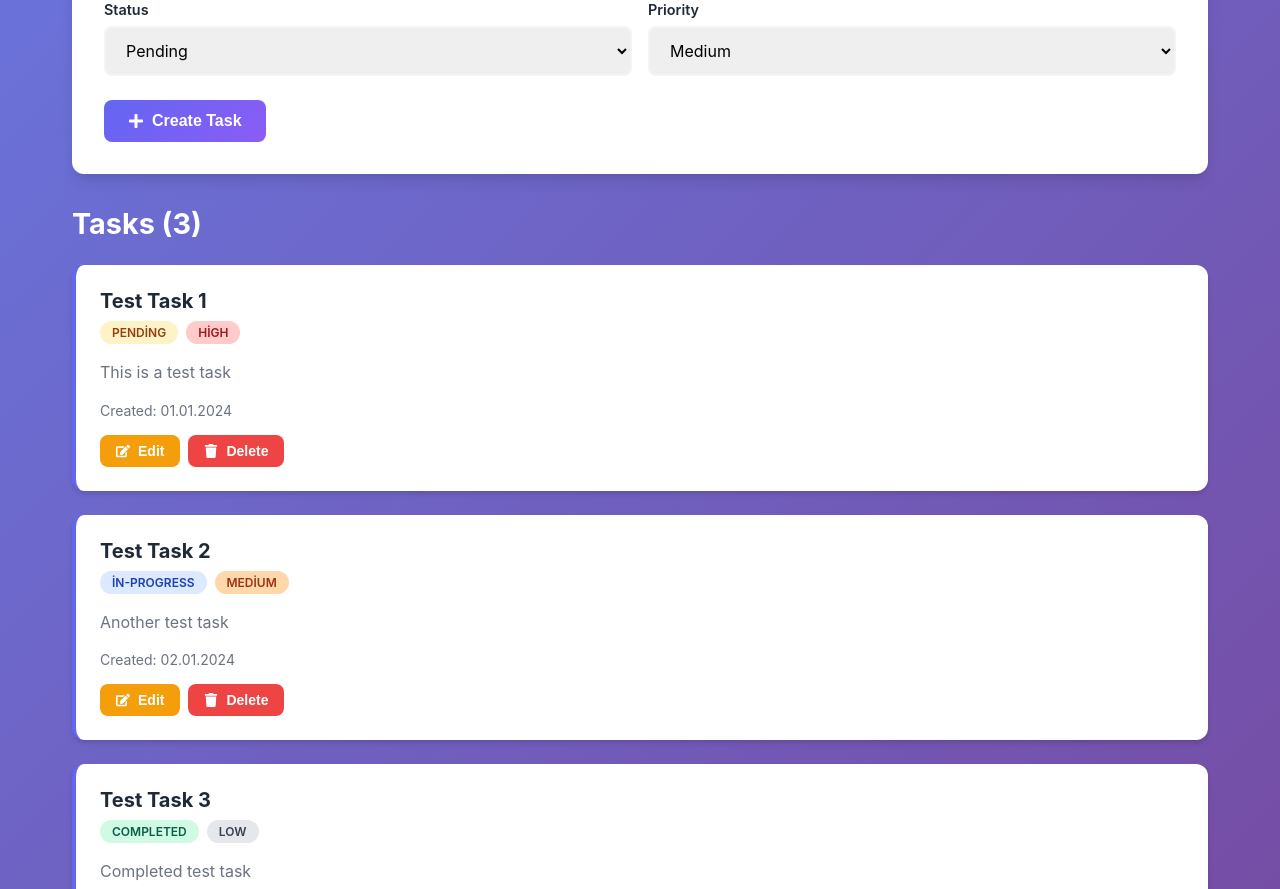
it: App Component Tests › Edit Task Functionality › should enter edit mode when edit button is clicked
(page scrolled)
Click the button "Edit" below "01.01.2024" at (140, 451), box [100,435,180,467]
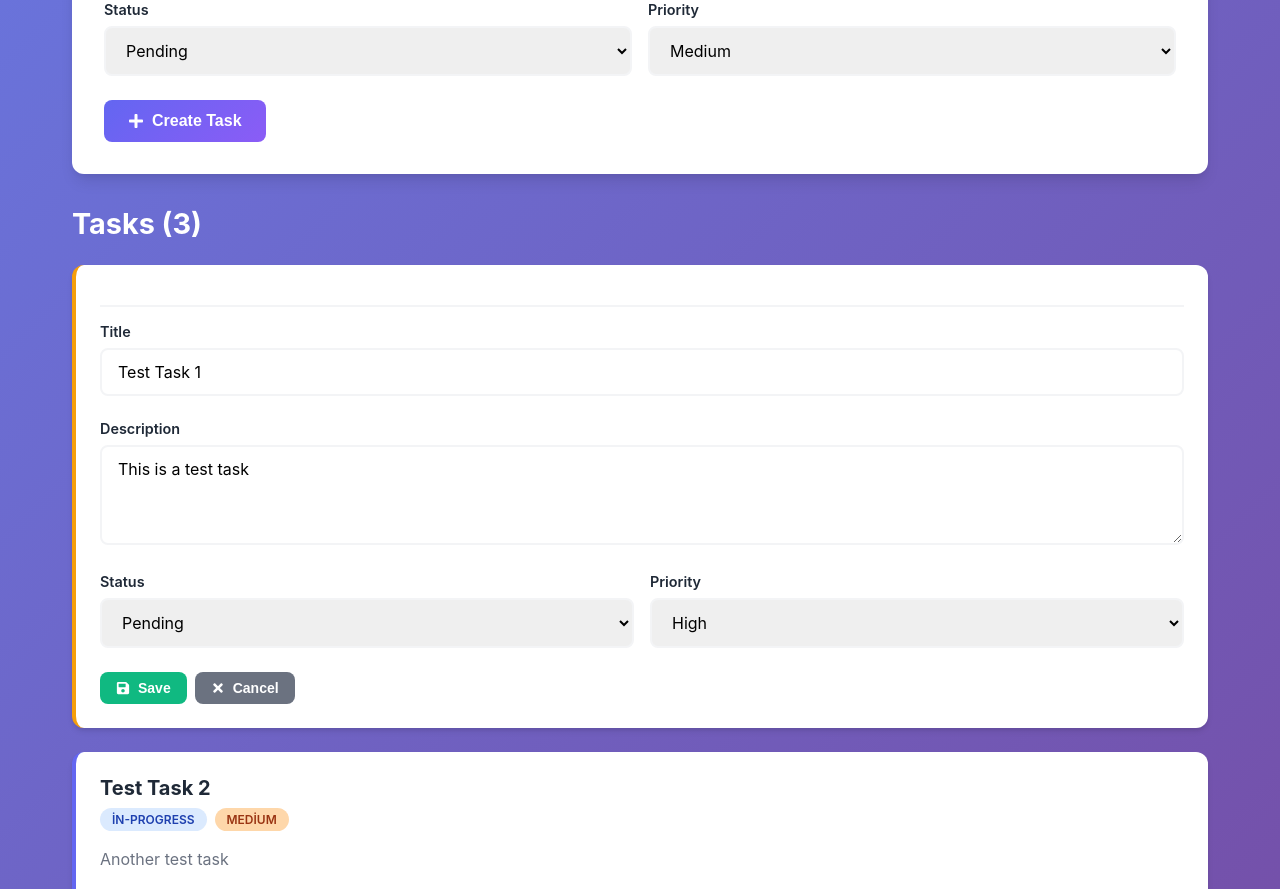
Expected: the button "Save" is shown, [100,672,187,704]
Expected: the button "Cancel" is shown, [195,672,295,704]
